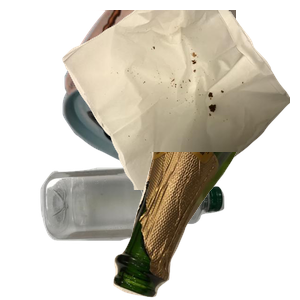glass: (111, 152, 300, 300)
metal: (60, 10, 300, 175)
plastic: (38, 165, 255, 300)
trash: (60, 10, 300, 190)
